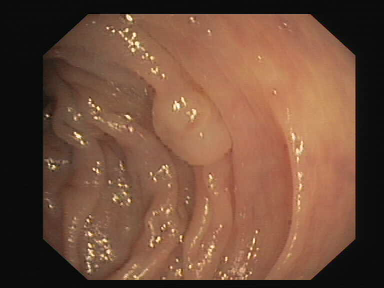polyp: (144, 72, 255, 191)
